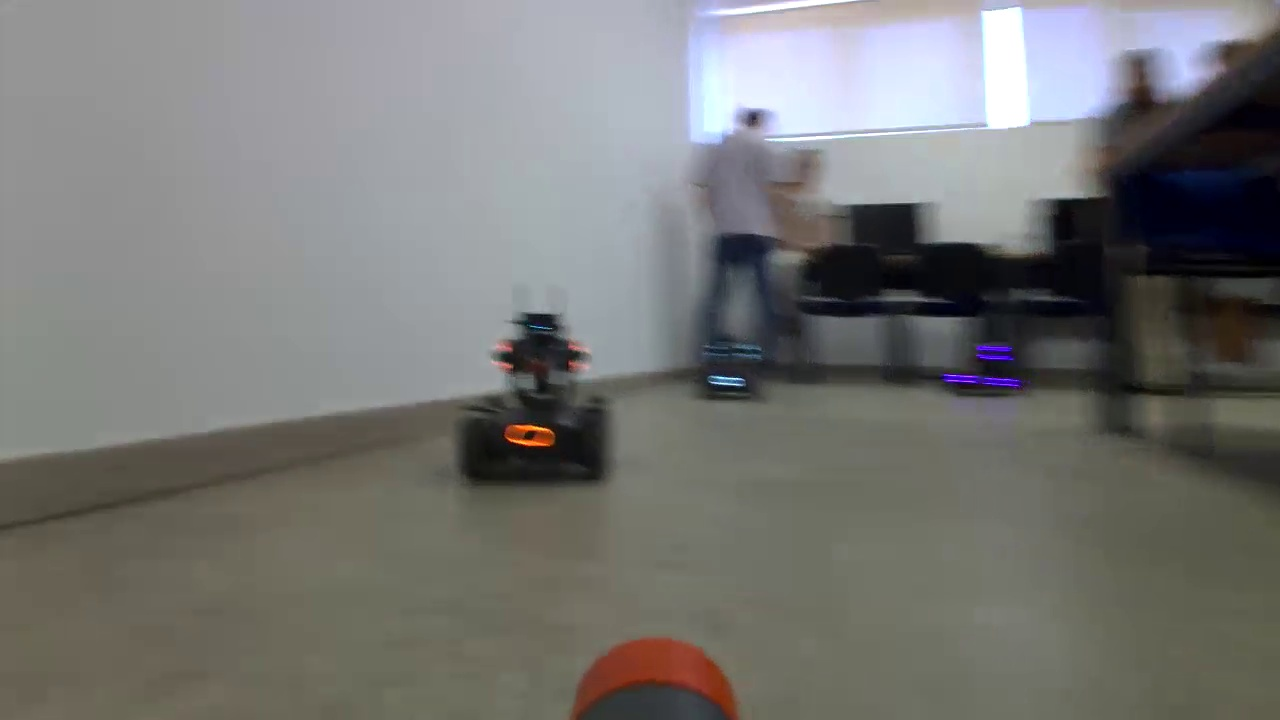robot: (483, 332, 610, 485), (953, 332, 1023, 400), (693, 340, 748, 385)
